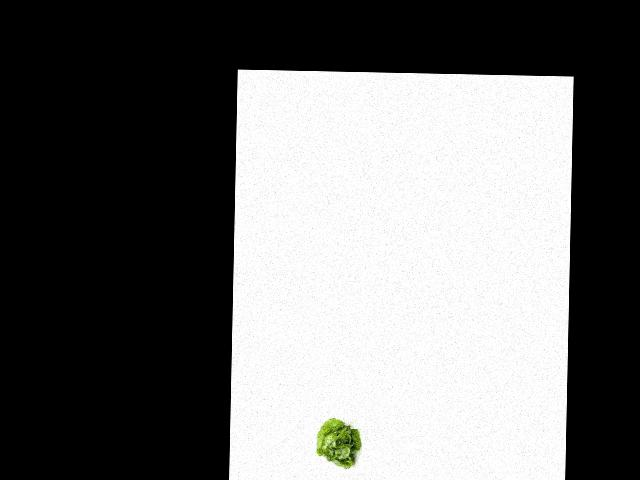lettuce: (311, 417, 364, 470)
